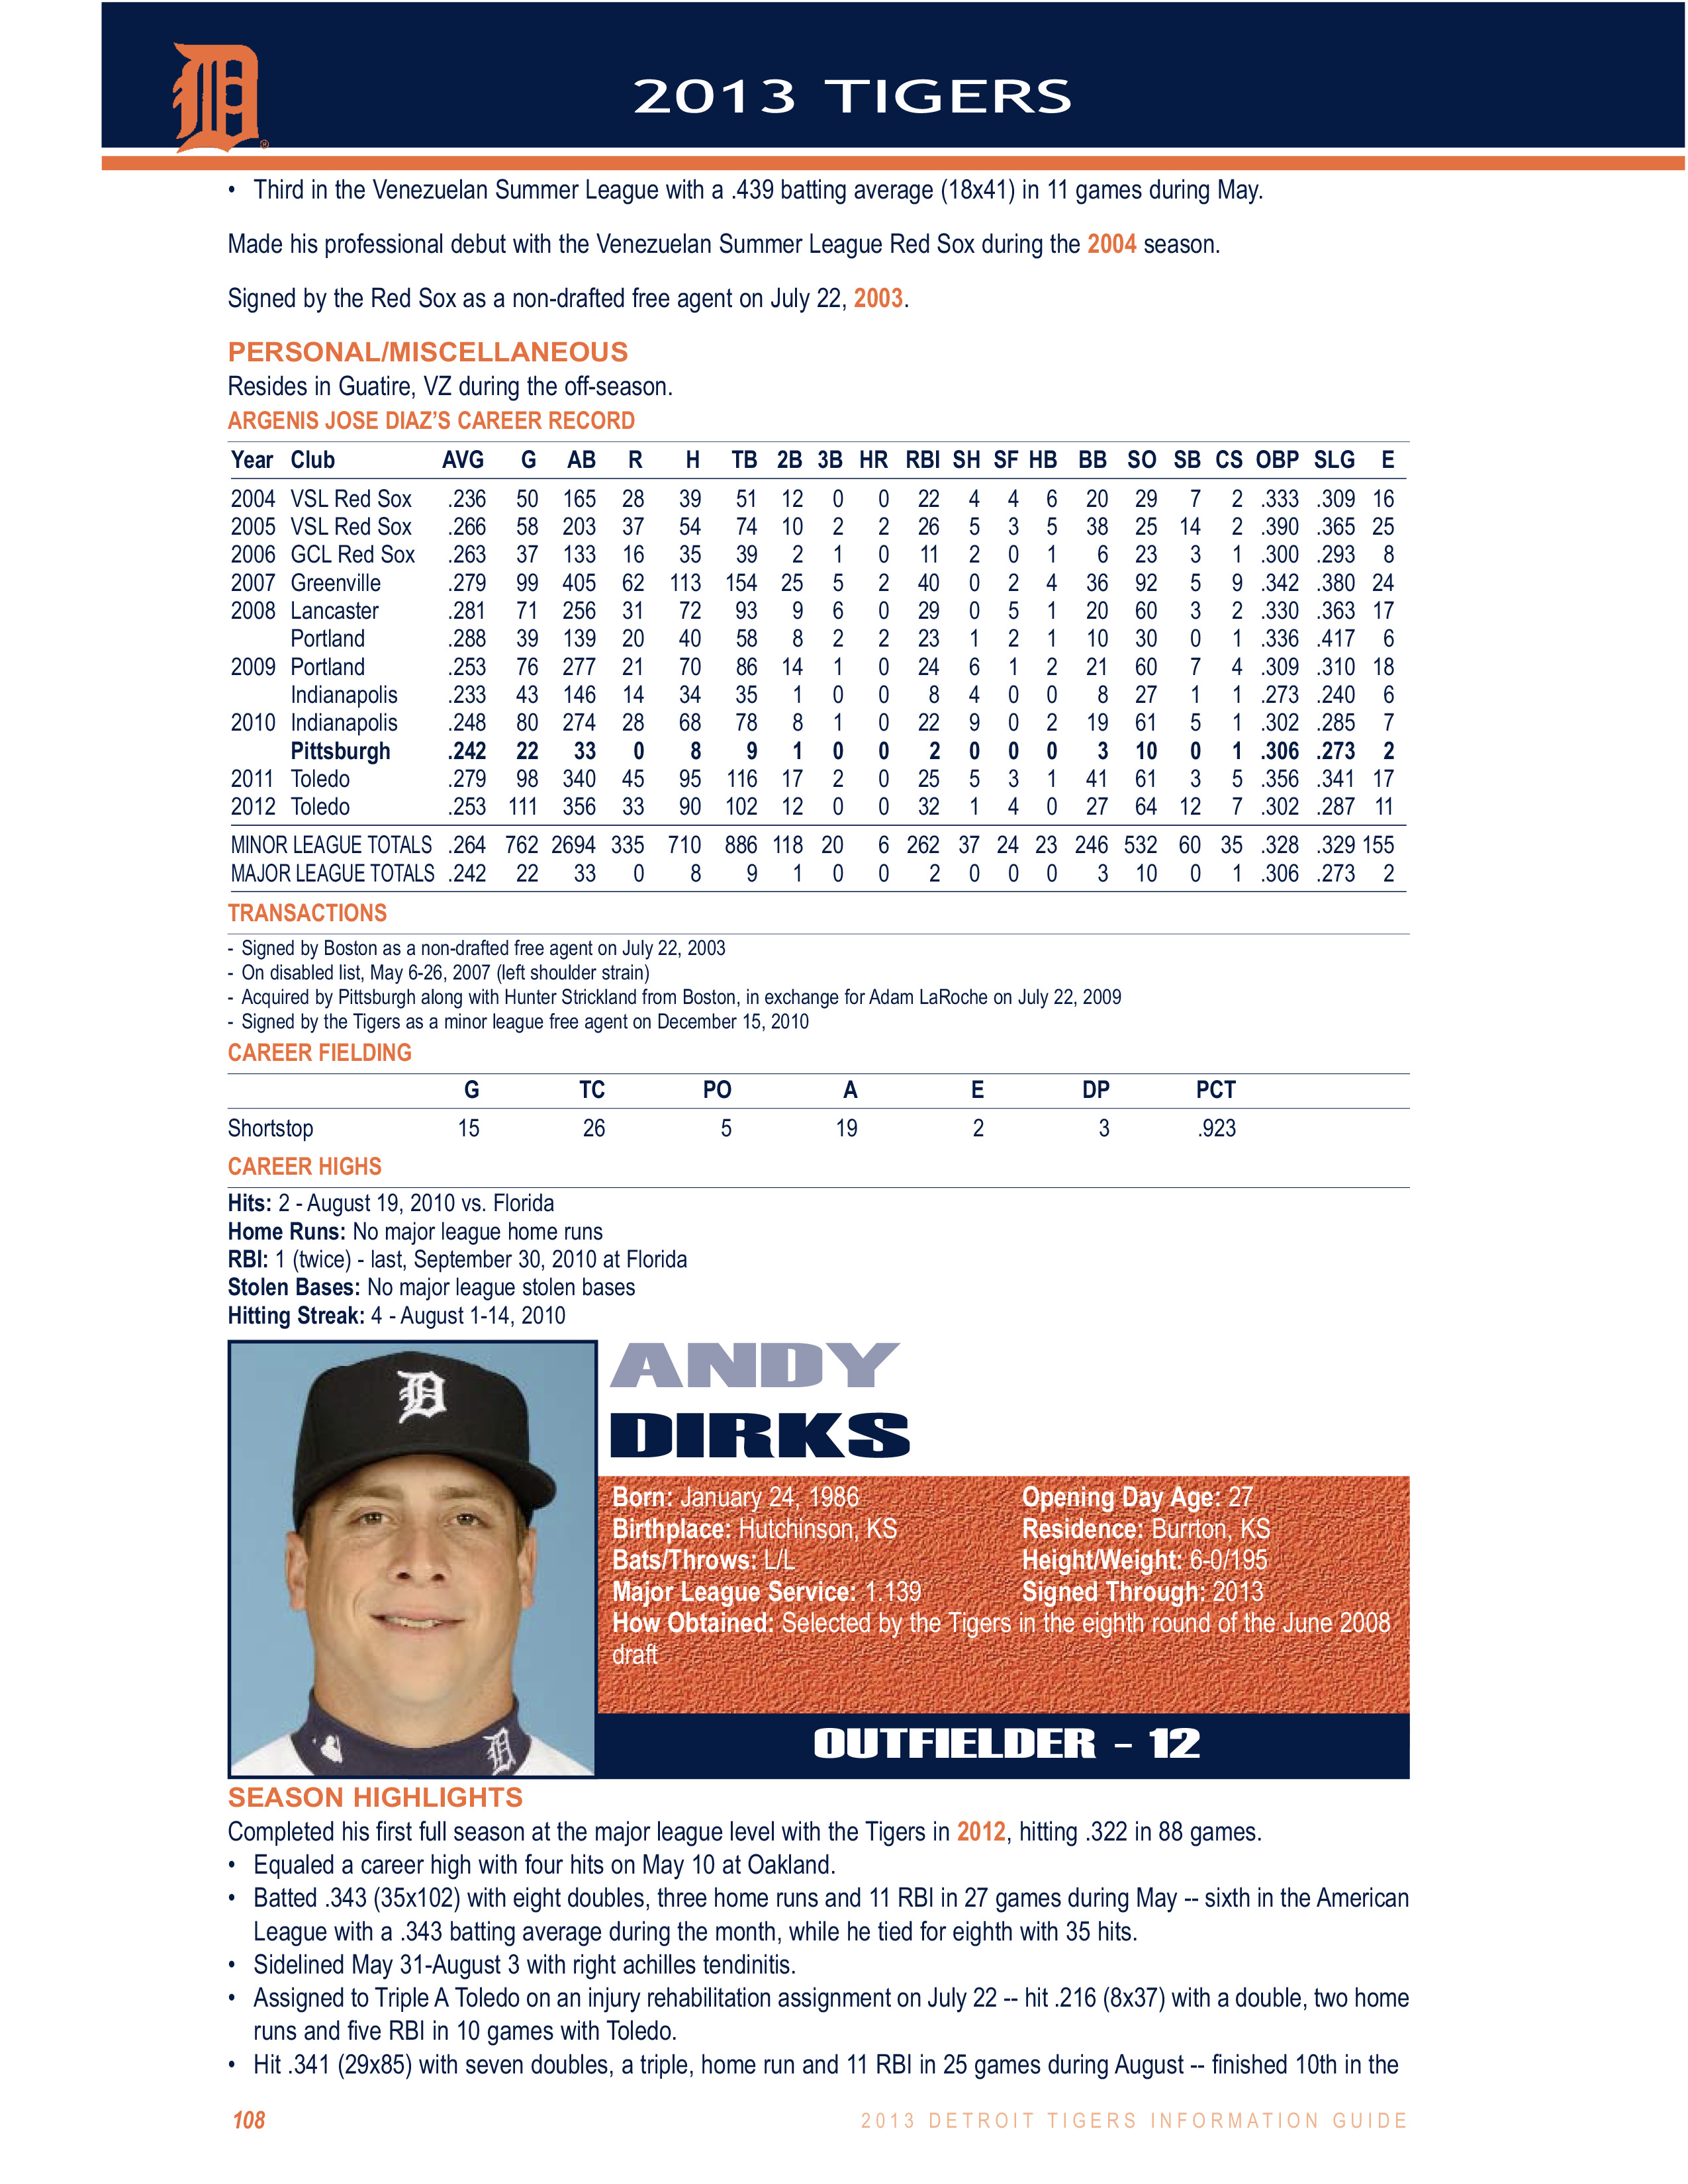caption: (599, 1342, 922, 1461)
list: (220, 1824, 1418, 2094), (596, 1468, 1395, 1675), (227, 1351, 599, 1787), (220, 948, 1142, 1049), (216, 1195, 690, 1338), (223, 167, 1293, 220)
section: (209, 943, 1145, 1039), (223, 326, 663, 379), (809, 1721, 1215, 1771), (206, 409, 668, 440), (216, 886, 406, 940), (206, 1785, 543, 1812), (204, 1039, 433, 1076), (206, 1152, 406, 1189)
table: (227, 448, 1379, 888), (193, 1076, 1429, 1156)
text: (227, 227, 1282, 319), (216, 376, 676, 417)
